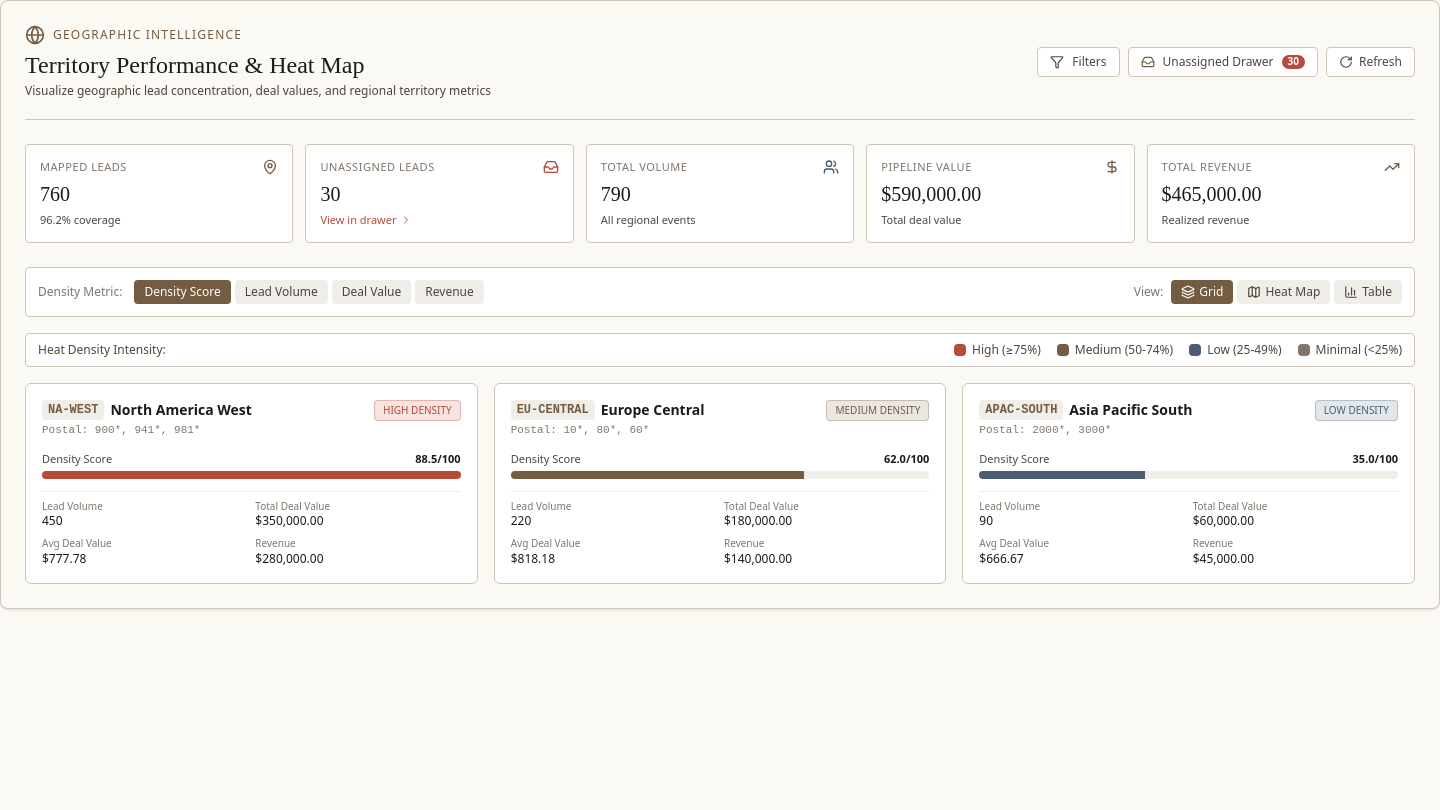
Test: TerritoryHeatMap Component & Helpers [FR-007, FR-008] › Filter Panel & Unassigned Drawer [FR-008] › opens Unassigned Territory drawer, searches events, and closes drawer
The image size is (1440, 810).
# Click KPI card or drawer button to open
Click the button with test id "open-unassigned-drawer-btn" at {"x": 1223, "y": 62}, box [1128,47,1318,77]
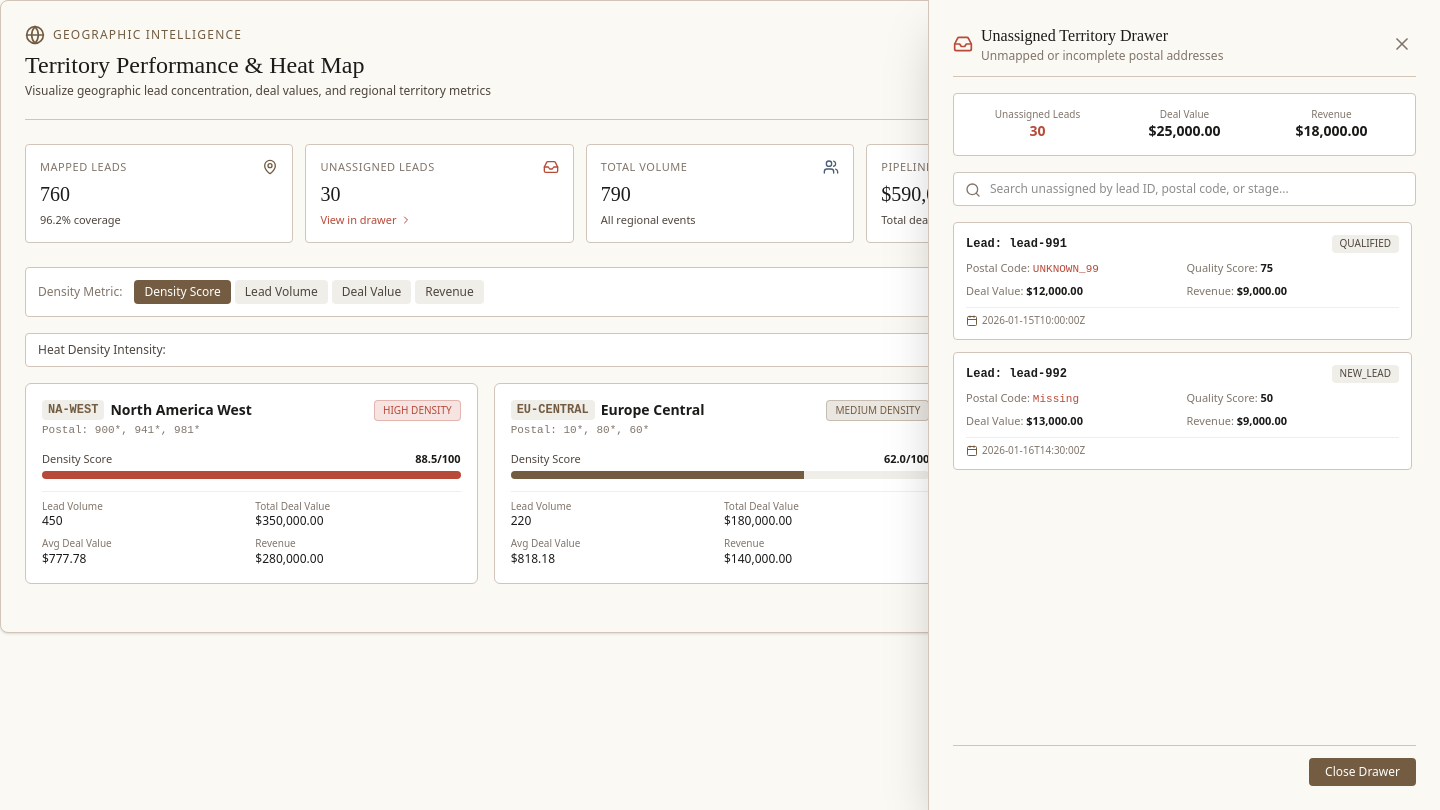
Now the element with test id "unassigned-drawer-panel" is shown, box [928,0,1439,809]
Now the element with test id "unassigned-item-lead-991" is shown, box [953,222,1412,340]
Now the element with test id "unassigned-item-lead-992" is shown, box [953,352,1412,470]
# Search inside drawer
Type "lead-991" into the field with test id "drawer-search-input" at {"x": 1184, "y": 189}, box [953,172,1416,206]
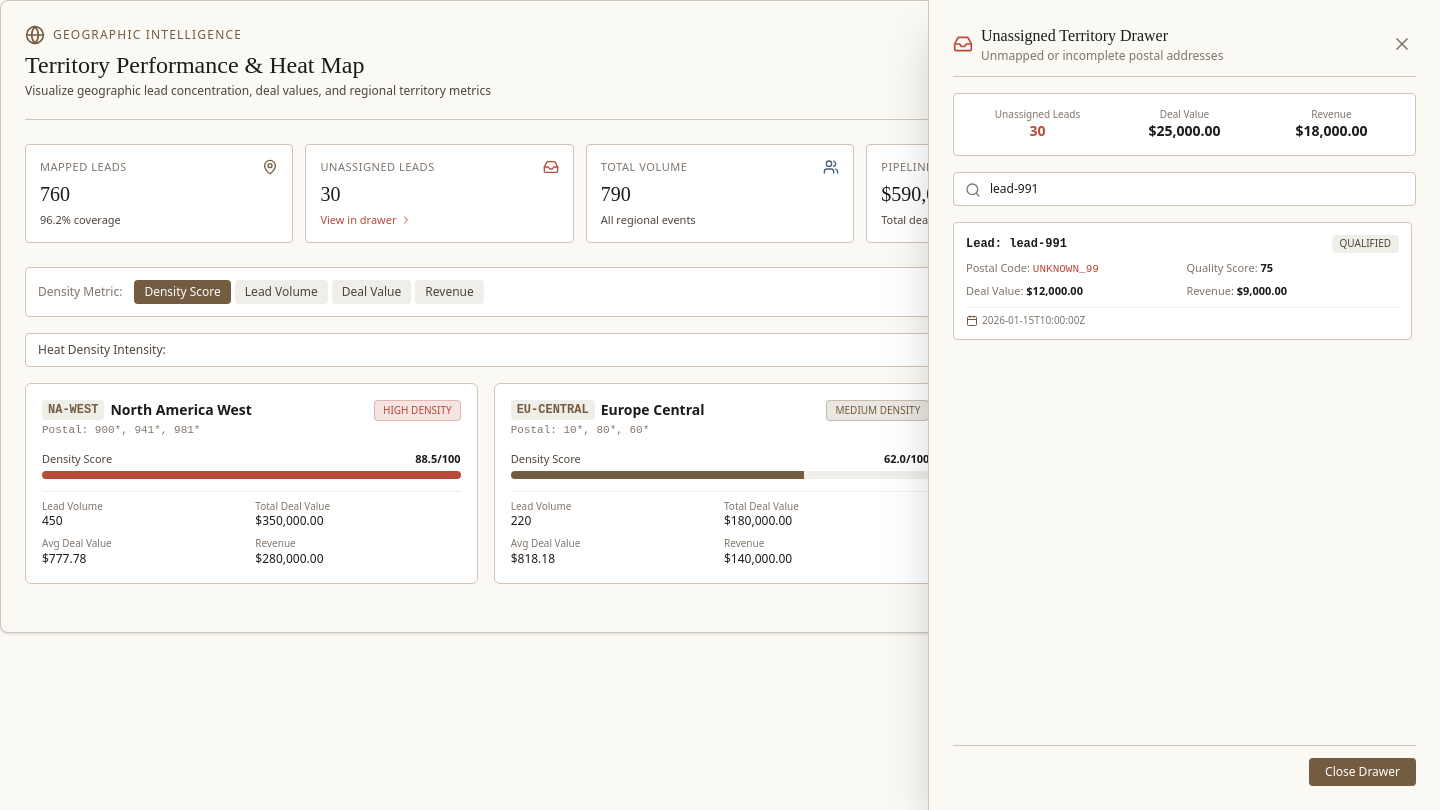
Now the element with test id "unassigned-item-lead-991" is shown, box [953,222,1412,340]
Now the element with test id "unassigned-item-lead-992" is gone
# Close drawer
Click the button with test id "close-unassigned-drawer-btn" at {"x": 1402, "y": 44}, box [1388,30,1416,58]
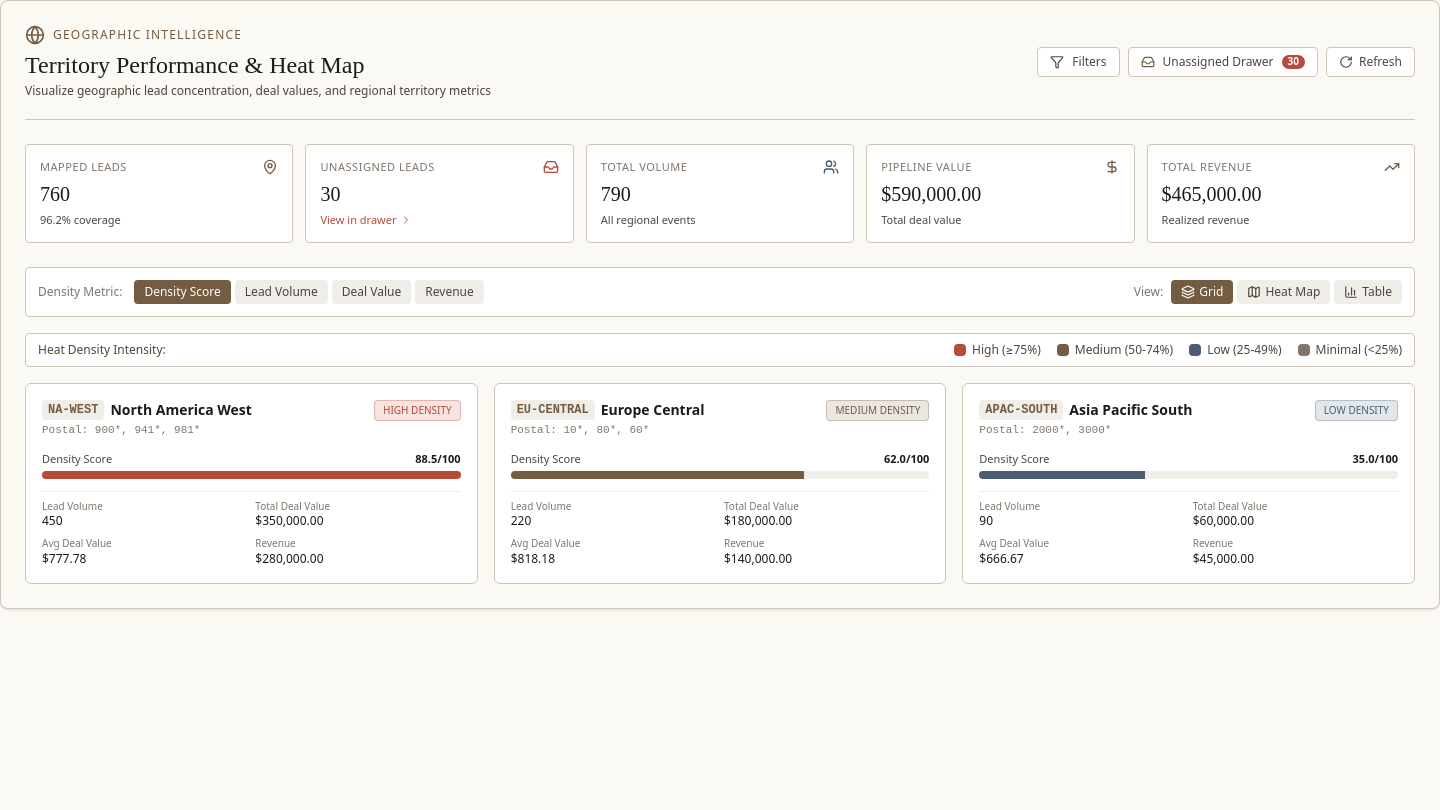
Now the element with test id "unassigned-drawer-panel" is gone
